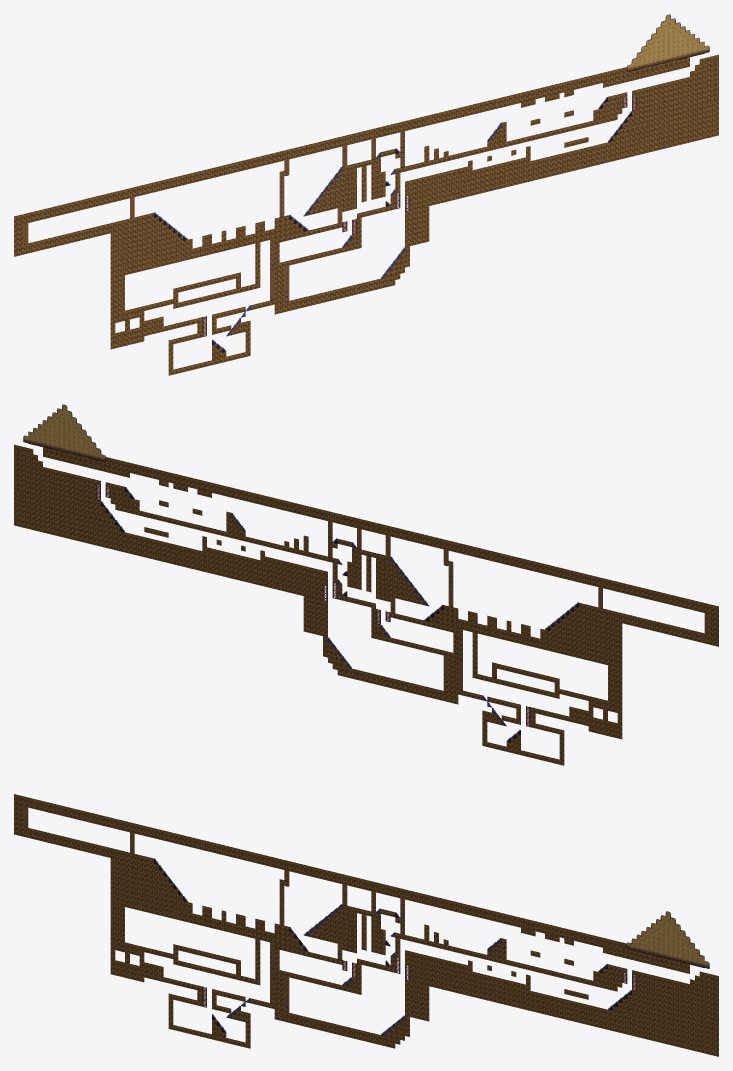
3 renders of one model, top to bottom at view 1: azimuth 30°, elevation 25°; view 2: azimuth 150°, elevation 25°; view 3: azimuth 330°, elevation 25°, orthographic.
Size of the model in its own units: 14600 by 4731 by 6.12e-15.
Materials: 15 (15 with a texture image).
